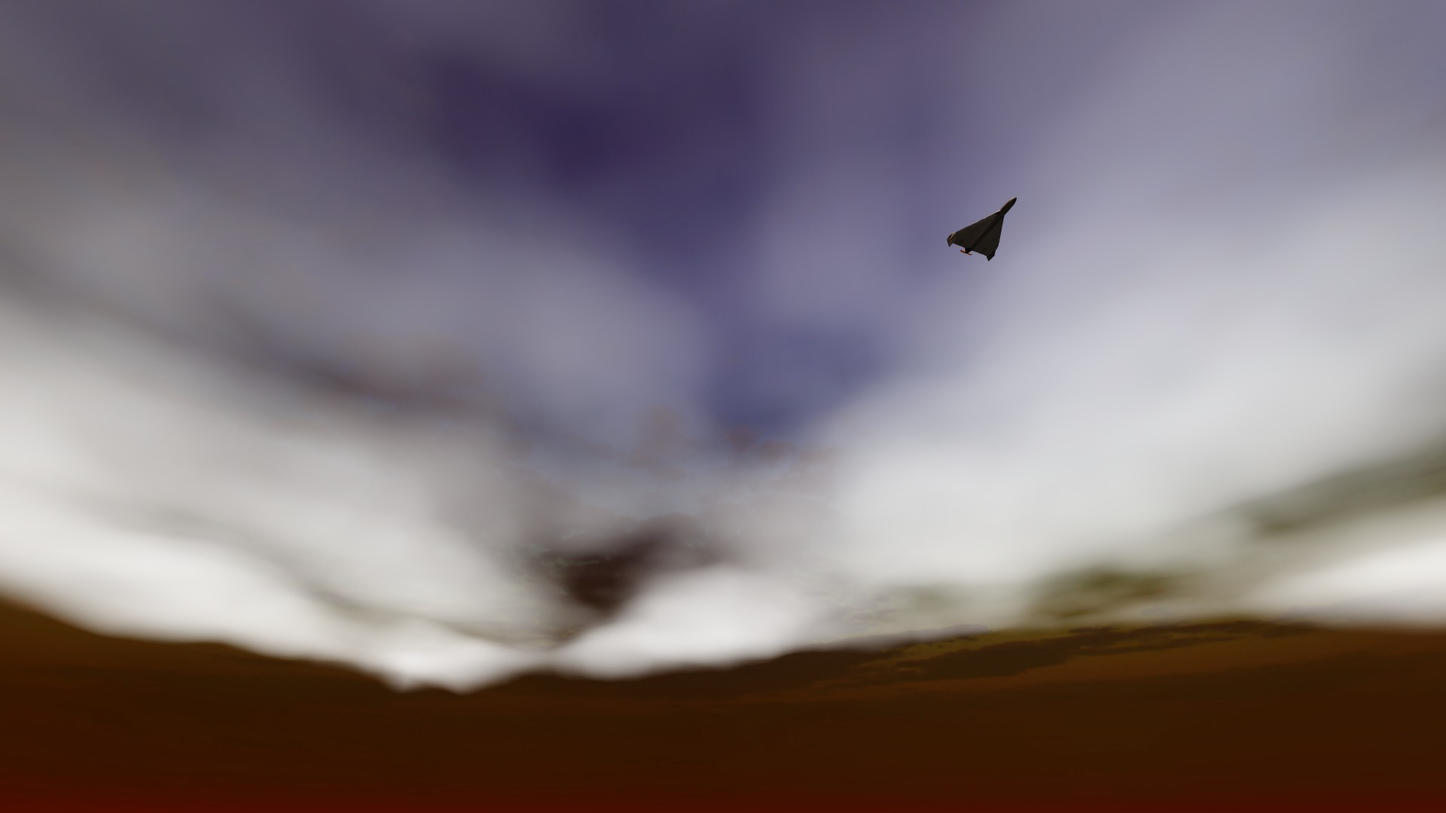shahed: (947, 197, 1017, 262)
